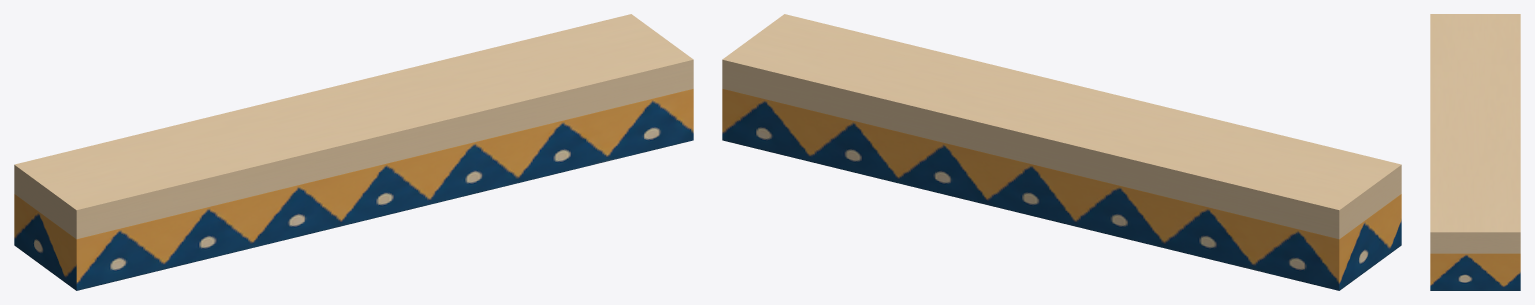
File: rc_wa_wallcap_4m.glb
The picture shows the model from 3 angles, left to right: view 1: azimuth 30°, elevation 25°; view 2: azimuth 150°, elevation 25°; view 3: azimuth 270°, elevation 25°; orthographic projection. The views are drawn at different scales.
Parts seen in each view (by area): view 1: SM_RC_WA_WallTopCap_4m; view 2: SM_RC_WA_WallTopCap_4m; view 3: SM_RC_WA_WallTopCap_4m.
Boxes of the visible parts, box(x1,y1,x2,y2) form: SM_RC_WA_WallTopCap_4m: box(14, 14, 693, 290); SM_RC_WA_WallTopCap_4m: box(722, 14, 1401, 290); SM_RC_WA_WallTopCap_4m: box(1430, 14, 1520, 290).
Bounding box in the file's own units: 4 × 0.5 × 0.7.
Materials: 1 (1 with a texture image).
